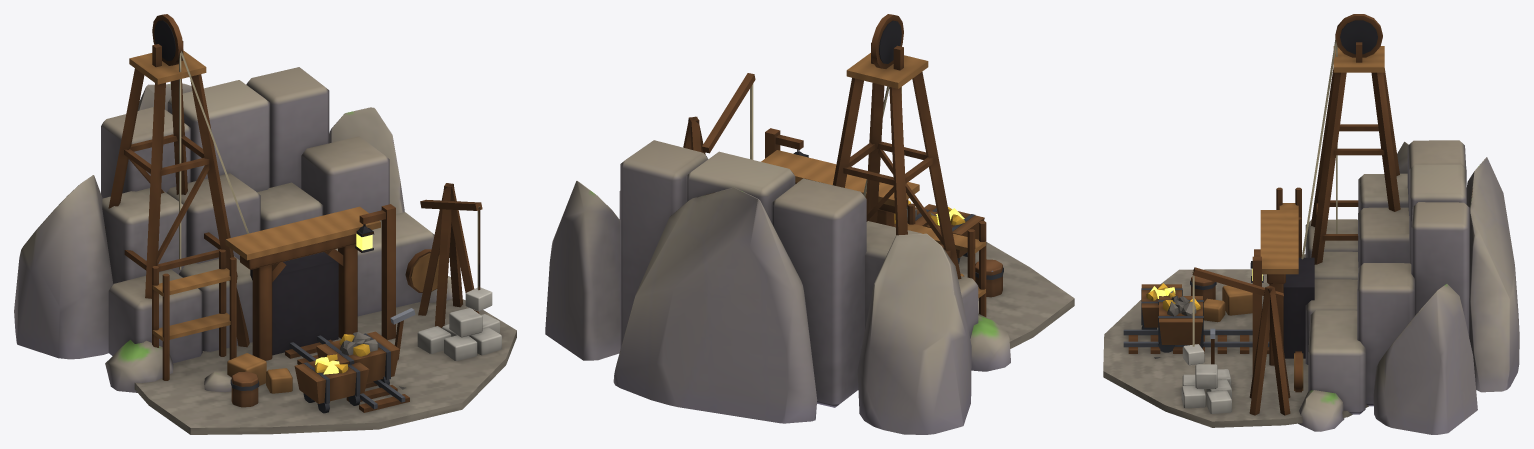
File: mine.glb
3 views of the same model, side by side, from view 1: azimuth 30°, elevation 25°; view 2: azimuth 150°, elevation 25°; view 3: azimuth 270°, elevation 25° (orthographic). The views are drawn at different scales.
Parts seen in each view (by area): view 1: mine; view 2: mine; view 3: mine.
Part boxes in pixels (x1,y1,x2,y2): mine: [14, 14, 516, 434]; mine: [545, 14, 1074, 434]; mine: [1103, 14, 1519, 434].
Bounding box in the file's own units: 1.27 × 1.05 × 1.31.
Materials: 3 (1 with a texture image).
